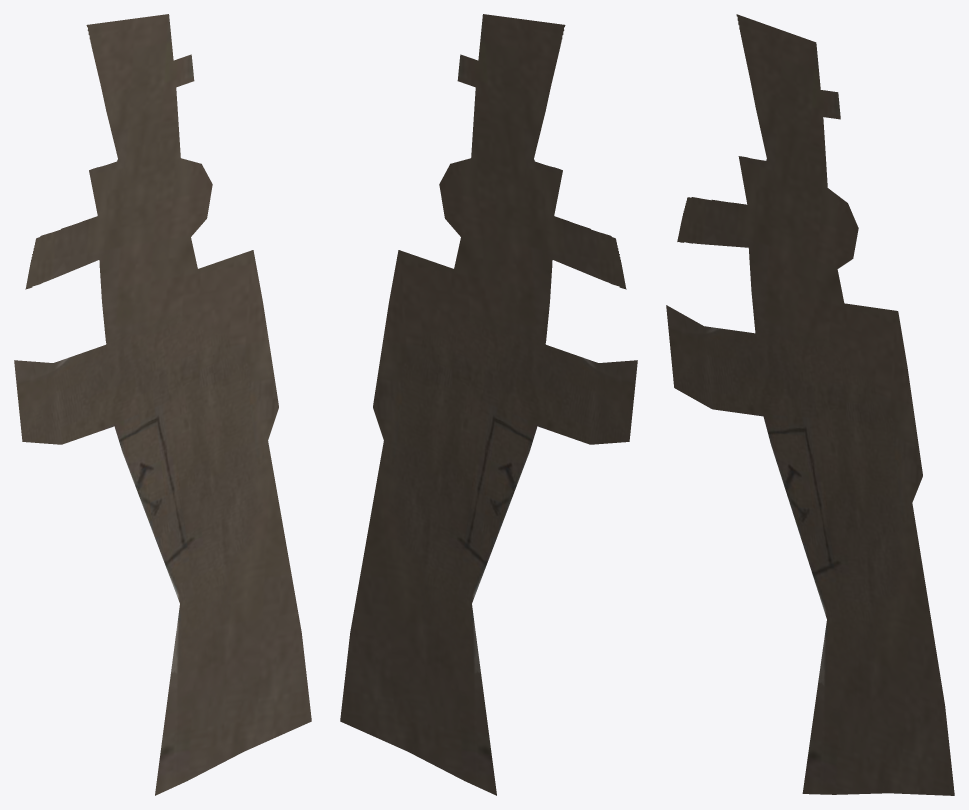
Rendered from VieuxMarc.fbx.
The picture shows the model from 3 angles, left to right: view 1: azimuth 30°, elevation 25°; view 2: azimuth 150°, elevation 25°; view 3: azimuth 330°, elevation 25°; orthographic projection. The views are drawn at different scales.
Visible parts, largest first — view 1: pasted__pPlane1; view 2: pasted__pPlane1; view 3: pasted__pPlane1.
Boxes of the visible parts, x1,y1,x2,y2 form: pasted__pPlane1: (14, 14, 311, 795); pasted__pPlane1: (340, 14, 637, 795); pasted__pPlane1: (666, 14, 954, 795).
Size of the model in its own units: 3.1 by 7.83 by 8.88e-16.
